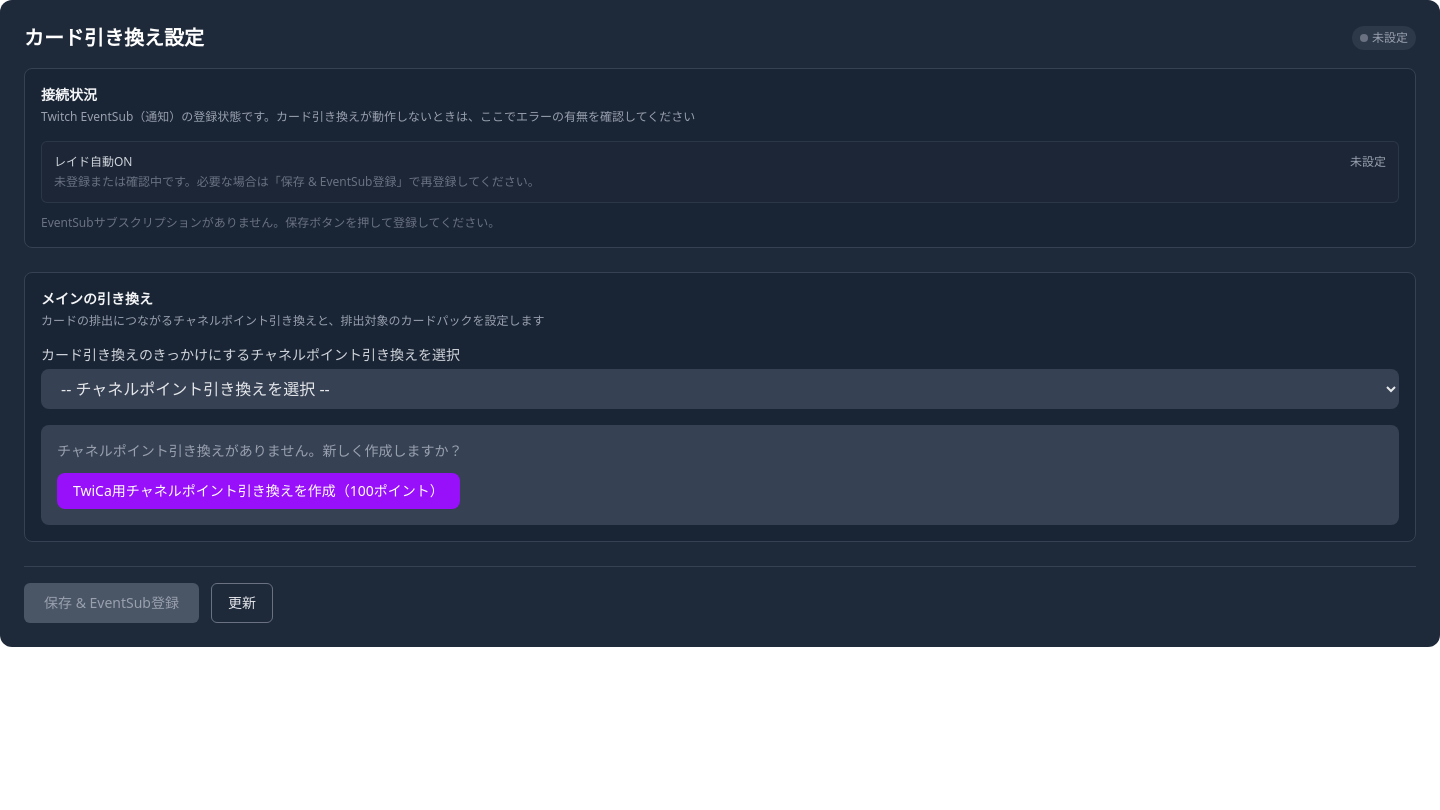
Test: ChannelPointSettings maintenance integration › 事前disableをすり抜けて報酬作成が503(maintenance)で拒否された場合、サーバーの案内文言を表示する
What coordinates should you click on to do the following:
click the button "TwiCa用チャネルポイント引き換えを作成（100ポイント）"
I would click on:
 (258, 491)
Its box is [57,473,460,509].
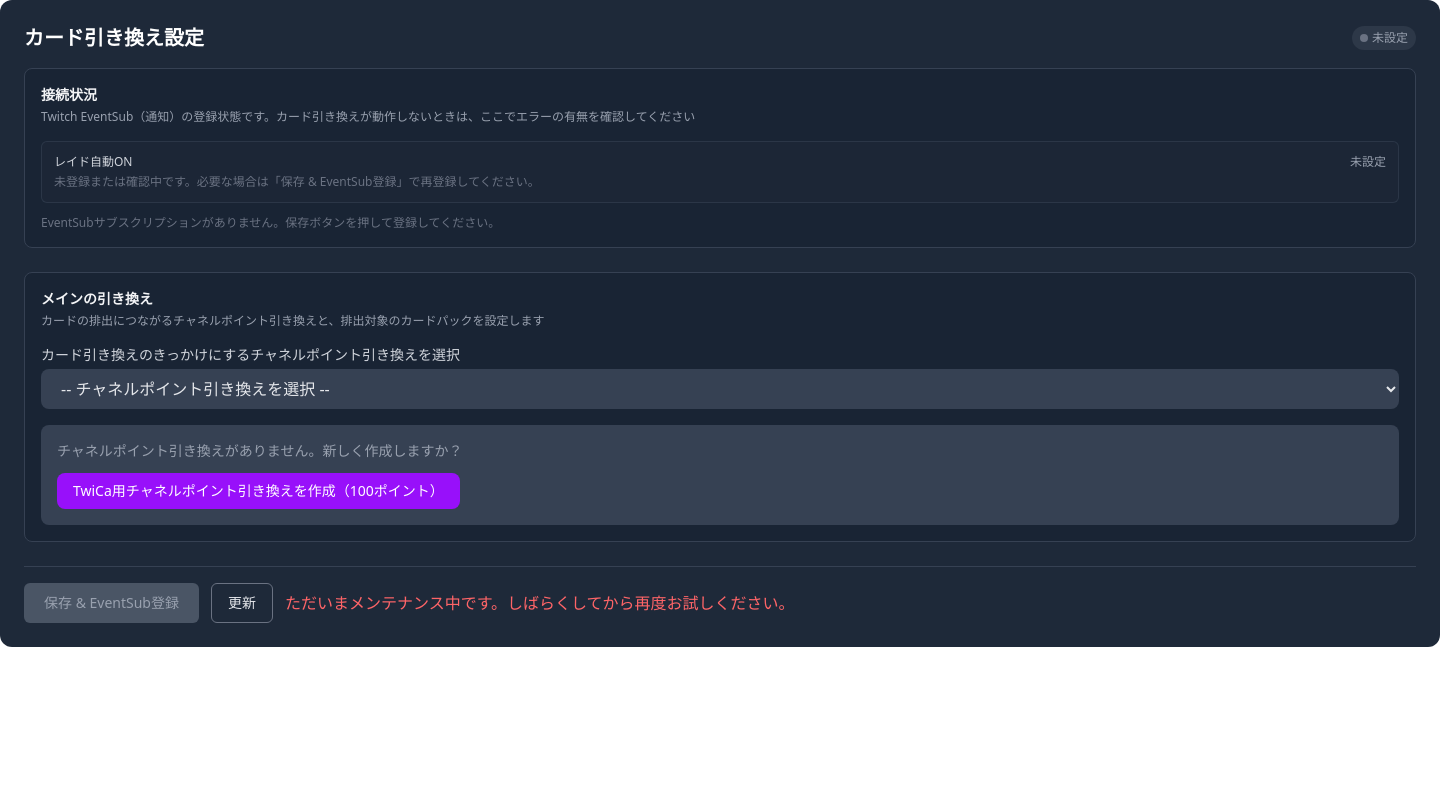
expect the text "ただいまメンテナンス中です。しばらくしてから再度お試しください。" is shown: met, box [285,591,795,615]
